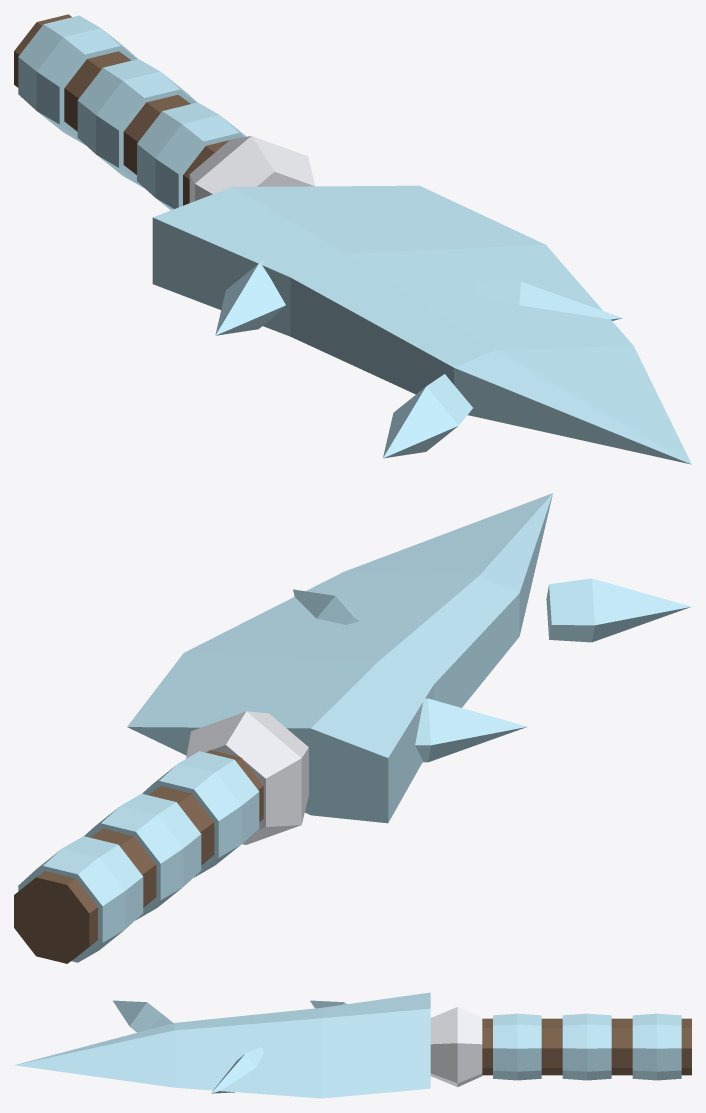
Rendered from frostshiv.glb.
3 renders of one model, top to bottom at view 1: azimuth 30°, elevation 25°; view 2: azimuth 150°, elevation 25°; view 3: azimuth 270°, elevation 25°, orthographic. The views are drawn at different scales.
Visible parts, largest first — view 1: frostshiv; view 2: frostshiv; view 3: frostshiv.
Boxes of the visible parts, <box> form: frostshiv: <box>14,14,691,464</box>; frostshiv: <box>14,493,691,963</box>; frostshiv: <box>15,992,691,1098</box>.
Size of the model in its own units: 0.1881 by 0.072 by 0.55.
